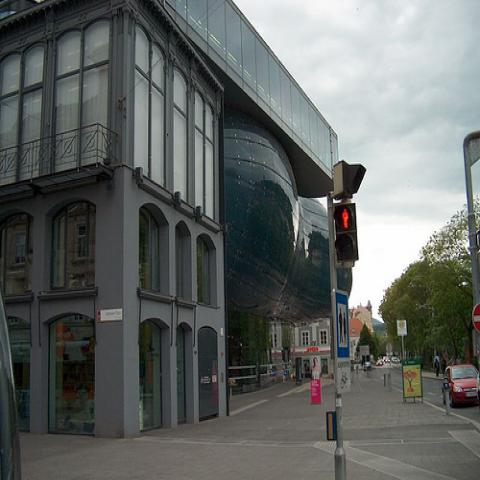car: (441, 365, 479, 408), (362, 361, 372, 372), (375, 358, 383, 366), (391, 356, 398, 364), (385, 357, 390, 363)
